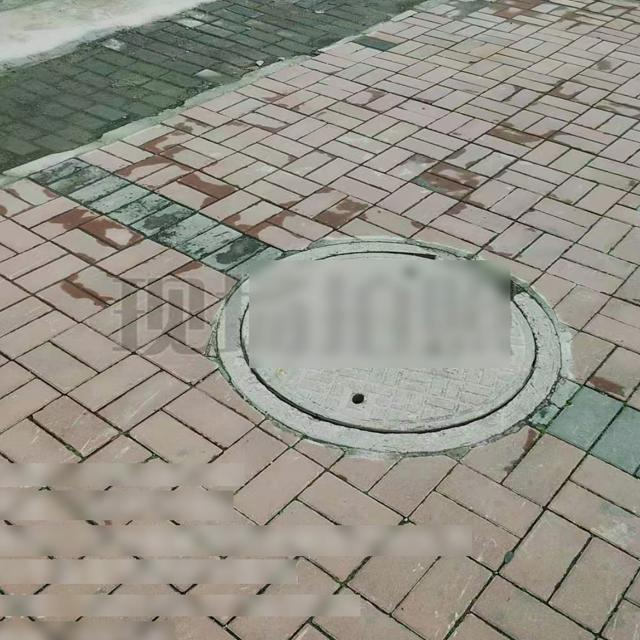circle: (209, 241, 566, 460)
